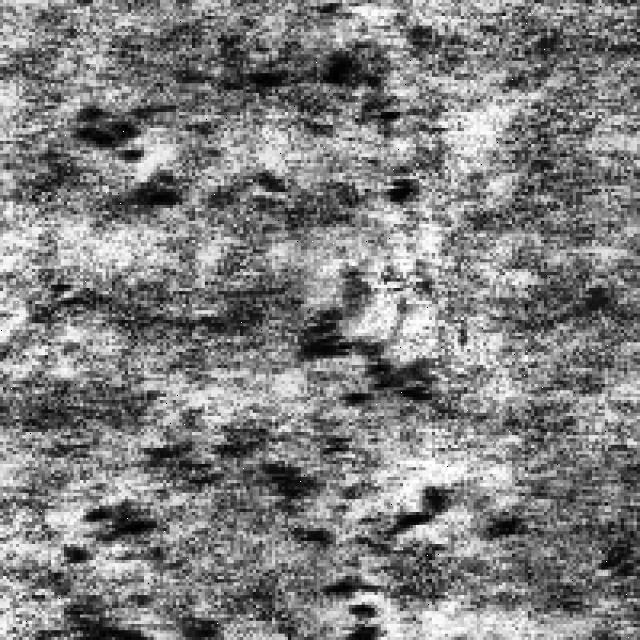Crazing: (67, 316, 448, 634), (77, 42, 413, 205)
